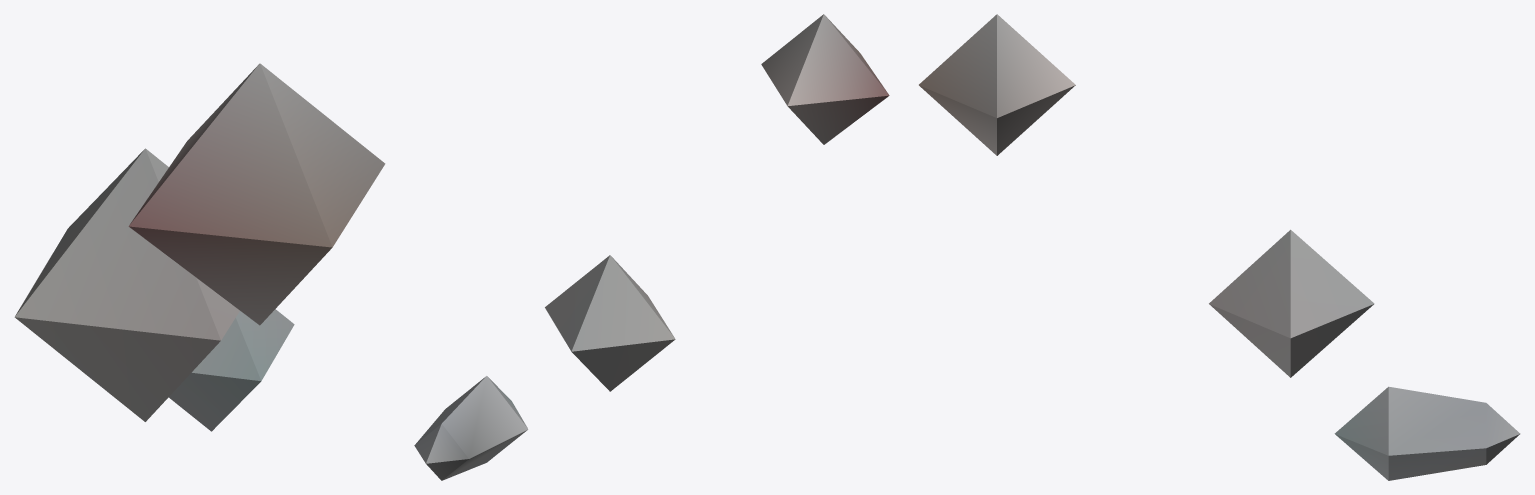
File: 000001_bicycle_sport_bike_12288_16.glb
The picture shows the model from 3 angles, left to right: view 1: azimuth 30°, elevation 25°; view 2: azimuth 150°, elevation 25°; view 3: azimuth 270°, elevation 25°; orthographic projection. The views are drawn at different scales.
Visible parts, largest first — view 1: world; view 2: world; view 3: world.
Part boxes in pixels (x1,y1,x2,y2): world: (14, 63, 385, 431); world: (414, 14, 889, 480); world: (919, 14, 1520, 480).
Size of the model in its own units: 0.3911 by 0.5027 by 0.7138.
